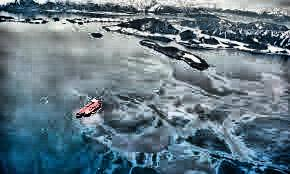sheen: (113, 96, 161, 168), (161, 144, 214, 174)
